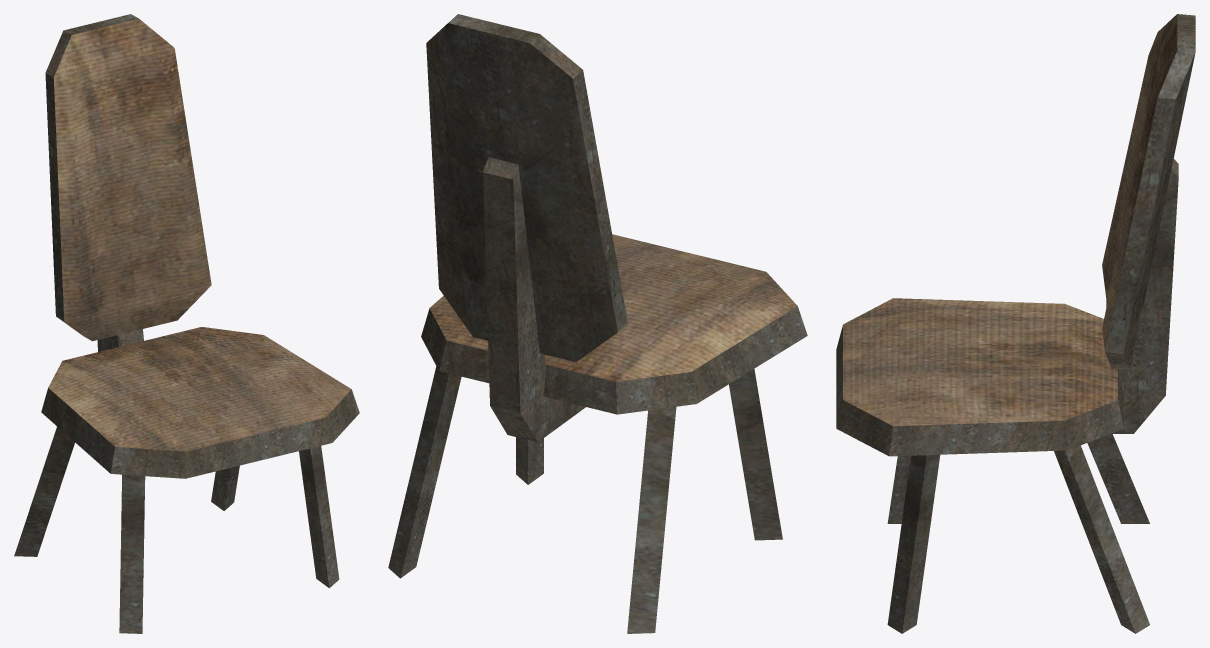
The model's file is frn_tato_chair_cafe_s02_l0.fbx.
3 views of the same model, side by side, from view 1: azimuth 30°, elevation 25°; view 2: azimuth 150°, elevation 25°; view 3: azimuth 270°, elevation 25° (orthographic). The views are drawn at different scales.
Parts seen in each view (by area): view 1: mesh_node; view 2: mesh_node; view 3: mesh_node.
Boxes of the visible parts, x1=… form: mesh_node: x1=14, y1=14, x2=359, y2=633; mesh_node: x1=388, y1=14, x2=807, y2=633; mesh_node: x1=836, y1=14, x2=1195, y2=633.
Size of the model in its own units: 0.5451 by 1.02 by 0.6135.
